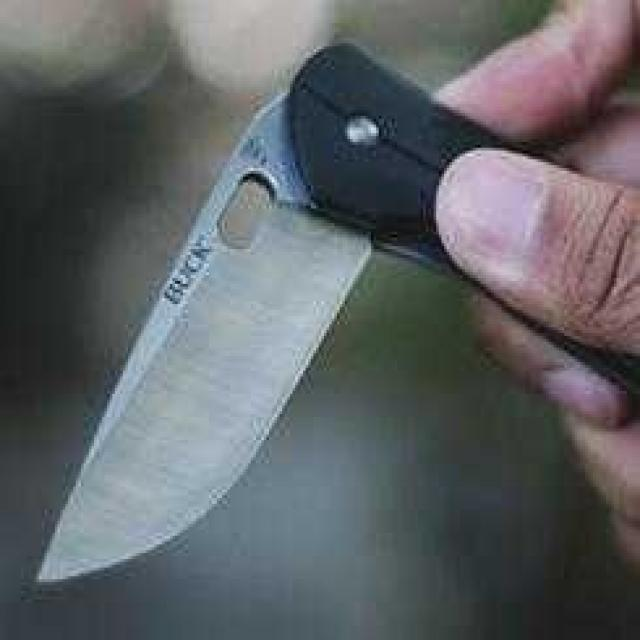knife: (35, 47, 589, 598)
